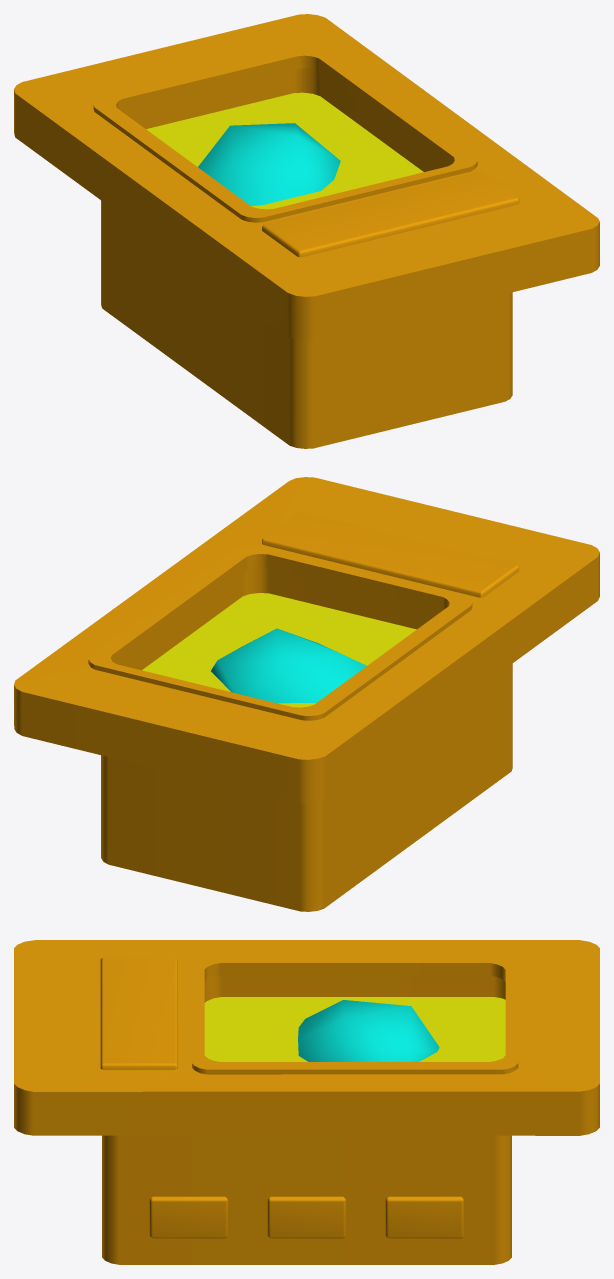
File: TeaTableFBX.fbx
3 views of the same model, one above another, from view 1: azimuth 30°, elevation 25°; view 2: azimuth 150°, elevation 25°; view 3: azimuth 270°, elevation 25° (orthographic).
Visible parts, largest first — view 1: TableTop, TableBottom, Frame, Sand, TopRectangle, Heater; view 2: TableTop, TableBottom, Frame, Sand, TopRectangle, Heater; view 3: TableTop, TableBottom, Frame, Sand, TopRectangle, Heater, Drawer02, Drawer01, Drawer03.
Boxes of the visible parts, x1,y1,x2,y2 form: TableTop: (14,14,599,340); TableBottom: (101,200,512,448); Frame: (93,47,477,222); Sand: (146,92,423,209); TopRectangle: (262,171,519,257); Heater: (198,123,340,205); TableTop: (14,477,599,803); TableBottom: (101,663,512,911); Frame: (88,545,472,720); Sand: (142,593,416,707); TopRectangle: (262,511,519,597); Heater: (211,628,366,703); TableTop: (14,940,599,1135); TableBottom: (102,1135,511,1264); Frame: (192,955,518,1074); Sand: (204,997,505,1061); TopRectangle: (100,957,177,1069); Heater: (298,1000,439,1061); Drawer02: (267,1196,346,1238); Drawer01: (149,1196,228,1238); Drawer03: (385,1196,463,1238).
Size of the model in its own units: 6.99 by 4.32 by 11.43.
